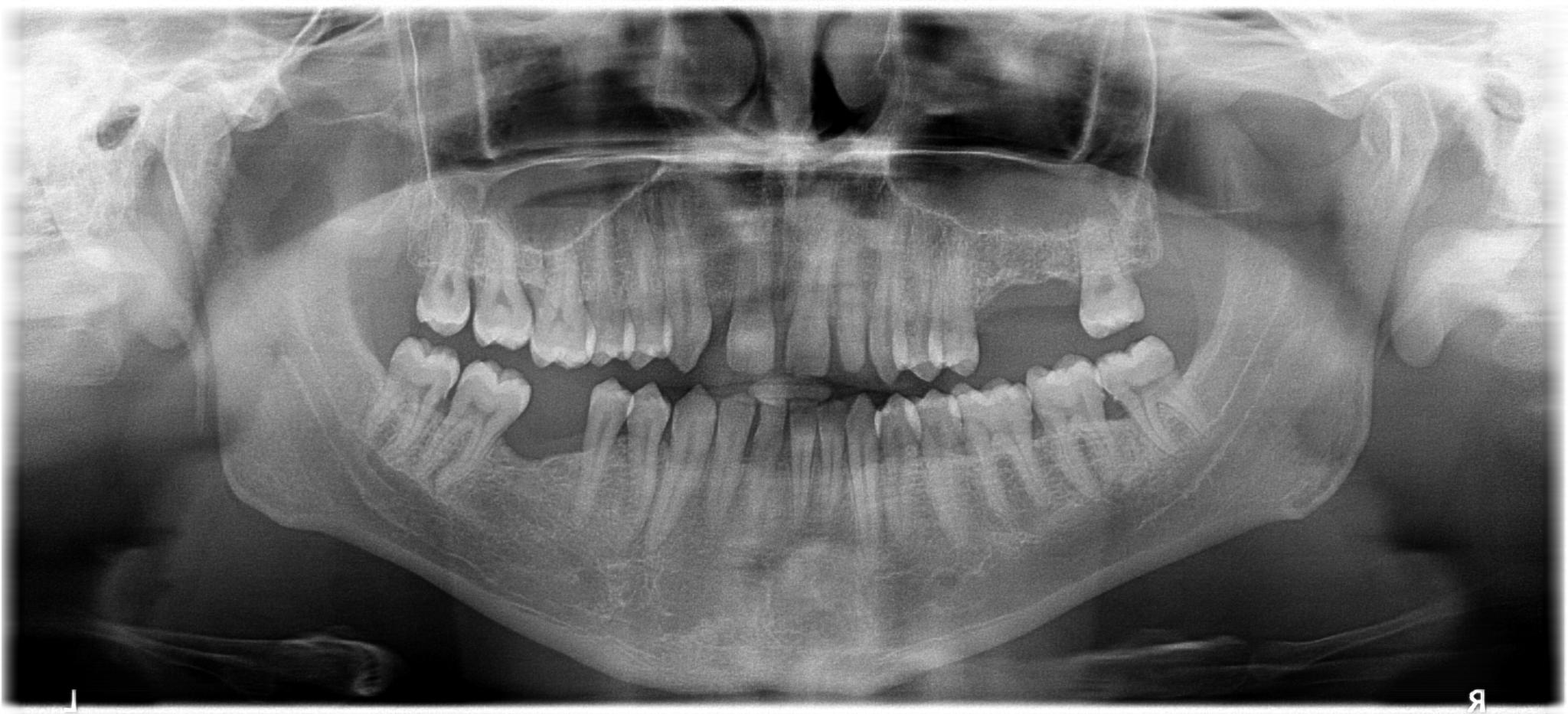Premolars: (533, 206, 1554, 582), (594, 159, 1568, 498)
